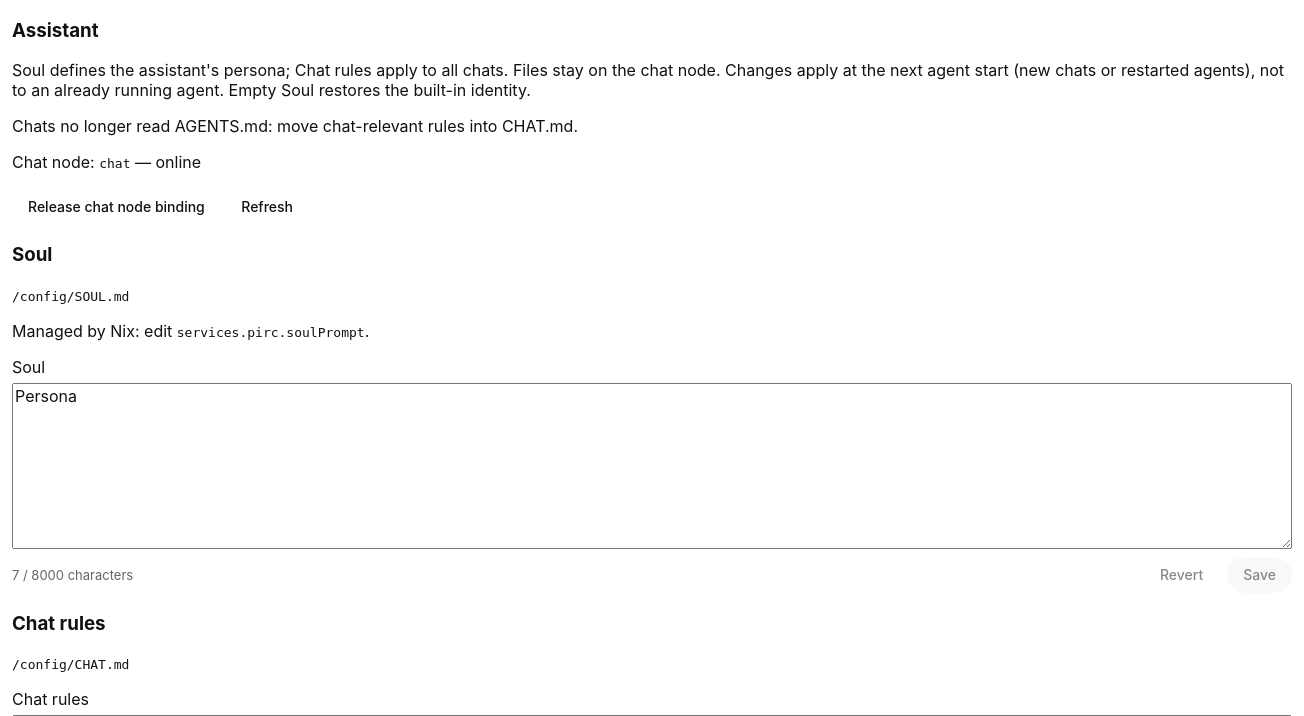
Test: shows Nix-managed files read-only and requires confirmation before unbinding
Click the button "Release chat node binding" at point(116, 206), box [12,188,221,224]
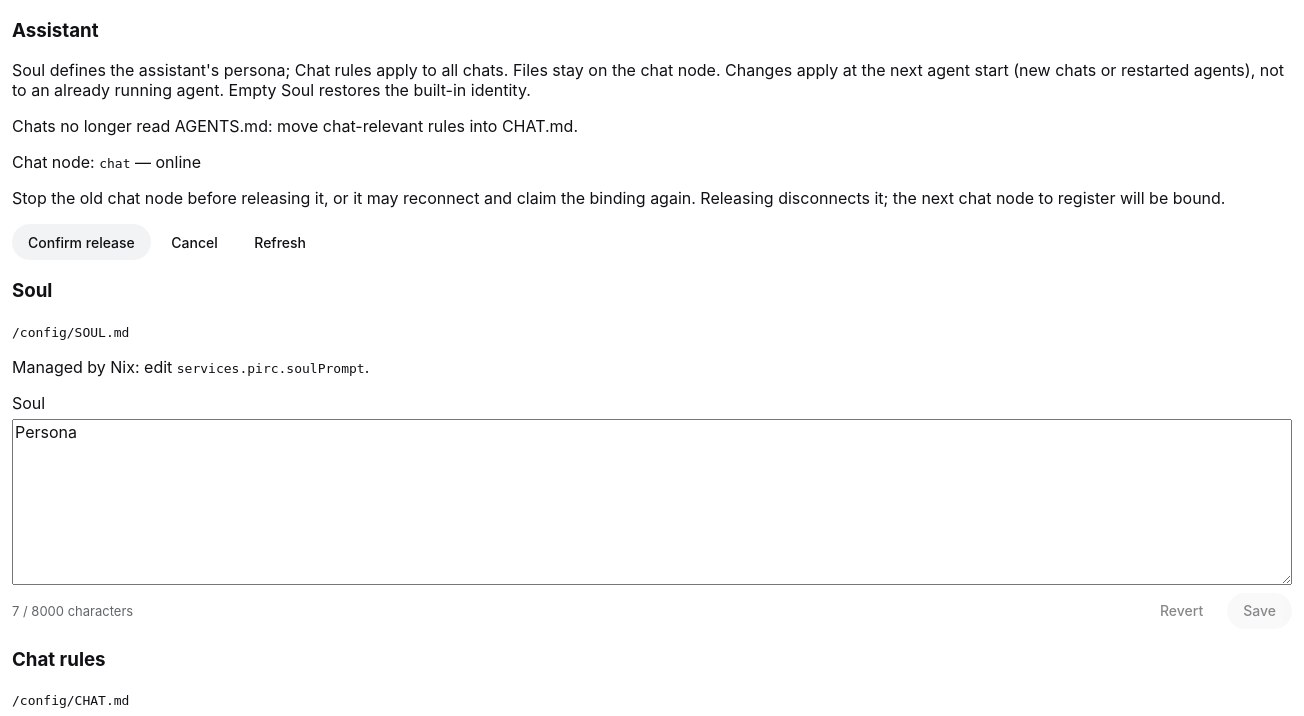
Click the button "Confirm release" at point(81, 242), box [12,224,151,260]
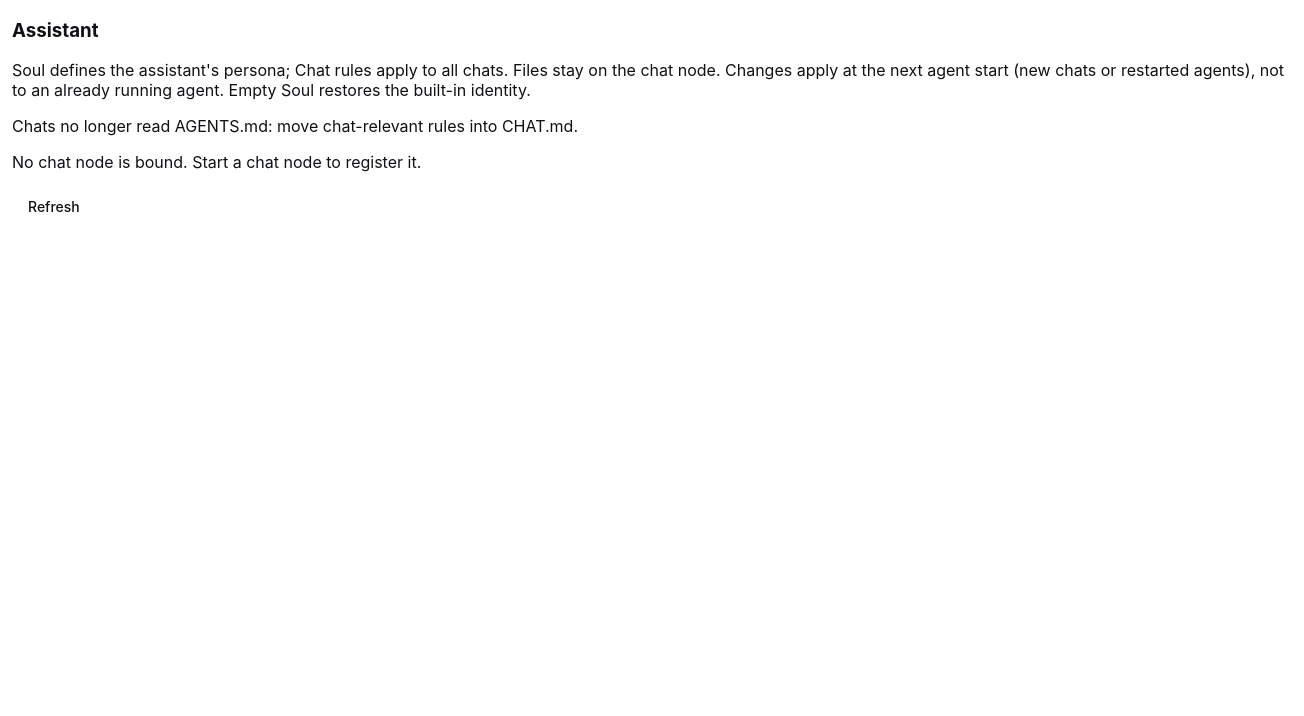
Expected: the text box is gone
